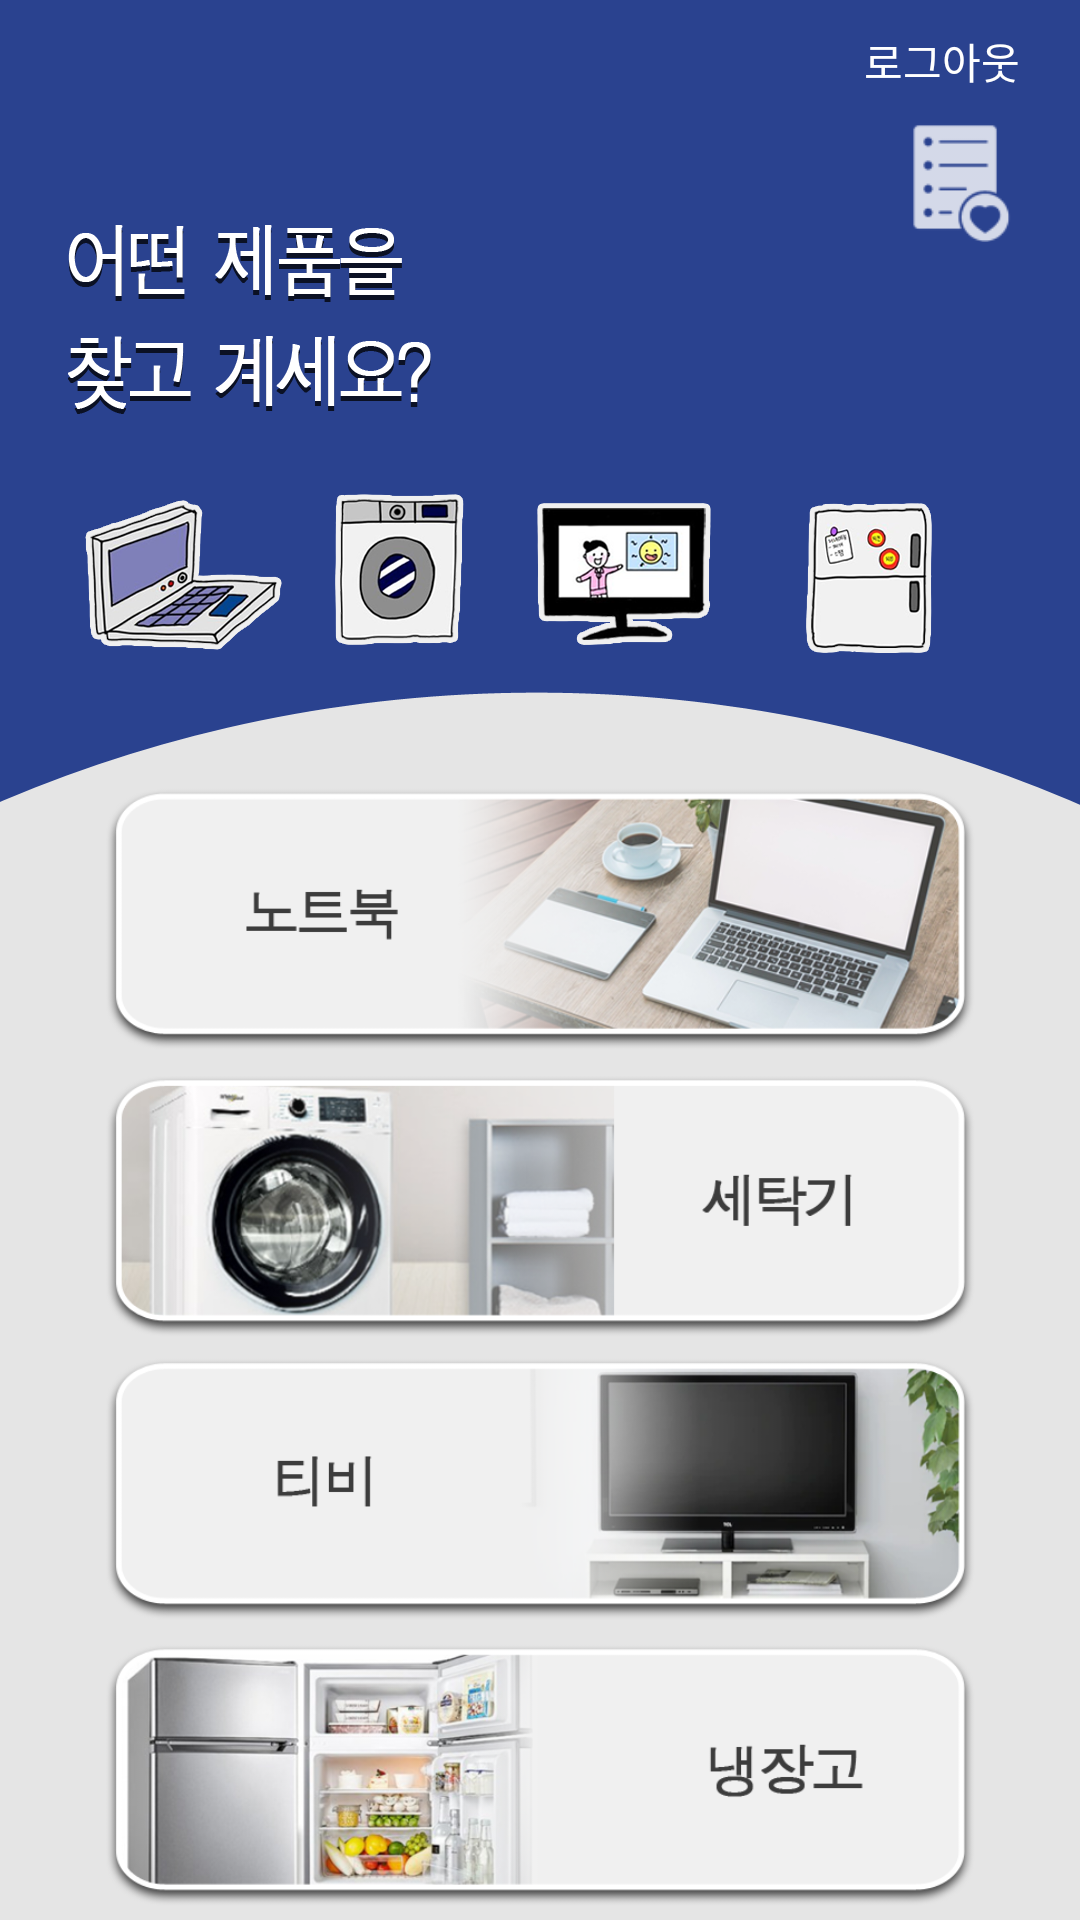

Locate icon controls on the screen. Image size 1080 x 1920, boxes as (x1, y1, x2, y2).
wishlist: (913, 125, 1009, 242)
